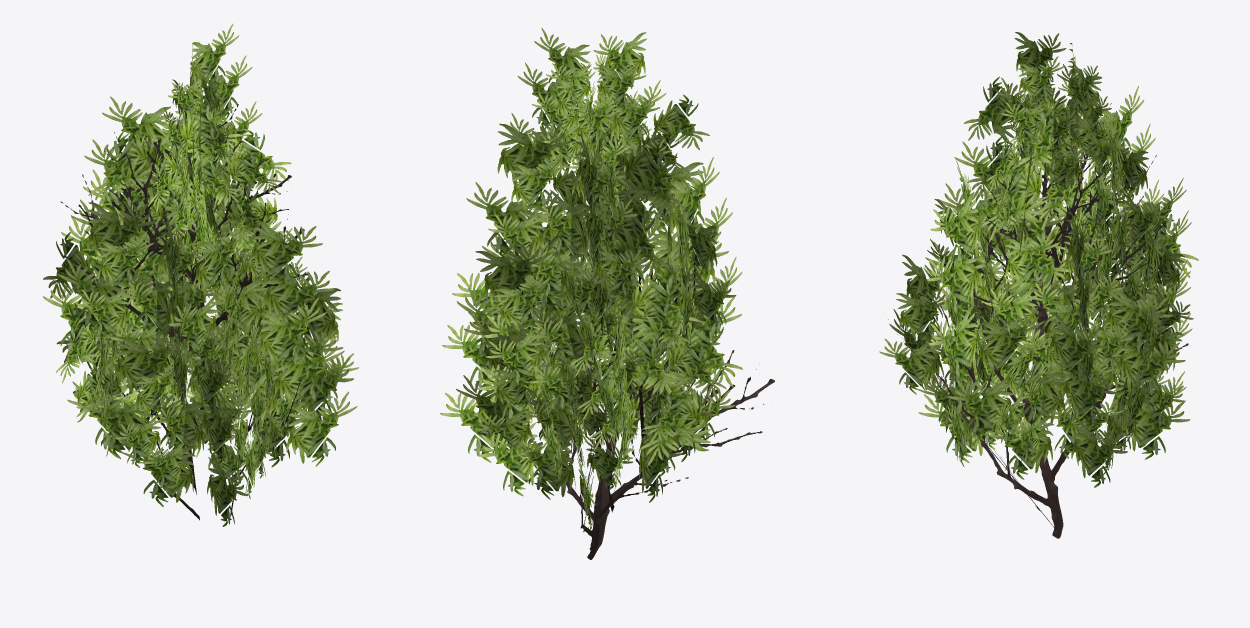
The model's file is bLomb_LOD0.fbx.
3 views of the same model, side by side, from view 1: azimuth 30°, elevation 25°; view 2: azimuth 150°, elevation 25°; view 3: azimuth 270°, elevation 25° (orthographic). The views are drawn at different scales.
Parts seen in each view (by area): view 1: Mesh Object; view 2: Mesh Object; view 3: Mesh Object.
Boxes of the visible parts, x1,y1,x2,y2 form: Mesh Object: (43, 24, 358, 526); Mesh Object: (440, 28, 774, 559); Mesh Object: (879, 32, 1198, 538).
Bounding box in the file's own units: 1.07 × 2.1 × 1.3.
